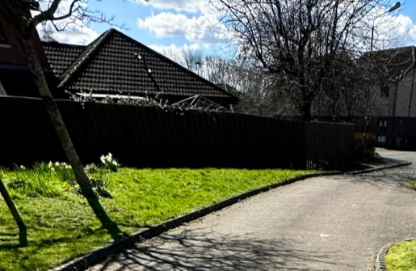tree: (211, 1, 361, 120)
